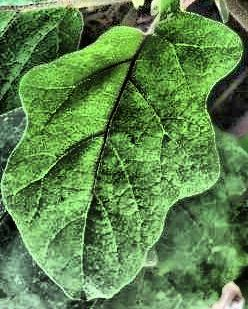HEALTHY: (1, 1, 248, 309)
